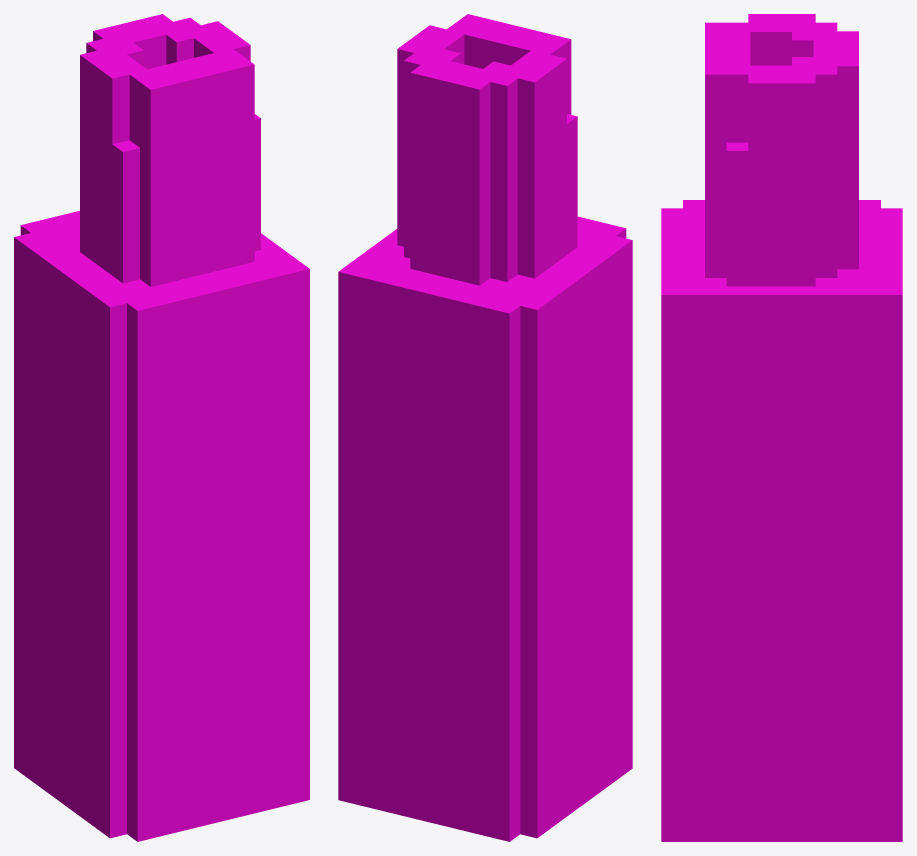
The model's file is water_dispenser.glb.
3 views of the same model, side by side, from view 1: azimuth 30°, elevation 25°; view 2: azimuth 150°, elevation 25°; view 3: azimuth 270°, elevation 25° (orthographic). The views are drawn at different scales.
Parts seen in each view (by area): view 1: col_roof_224, col_roof_20, col_roof_171, col_roof_218, col_roof_09, col_column_734, col_roof_177, col_column_604, col_column_377, col_roof_129, col_column_615, col_column_09 (+172 smaller); view 2: col_roof_225, col_roof_01, col_roof_10, col_roof_216, col_column_486, col_roof_219, col_roof_178, col_column_605, col_column_129, col_column_724, col_column_01, col_column_10 (+172 smaller); view 3: col_roof_109, col_roof_112, col_roof_116, col_roof_110, col_roof_111, col_roof_119, col_roof_118, col_roof_115, col_roof_117, col_roof_215, col_roof_114, col_roof_113 (+100 smaller).
Boxes of the visible parts, <box> form: col_roof_224: <box>139,77,169,160</box>; col_roof_20: <box>127,298,155,381</box>; col_roof_171: <box>111,140,139,222</box>; col_roof_218: <box>101,66,130,147</box>; col_roof_09: <box>98,295,127,377</box>; col_column_734: <box>127,369,155,447</box>; col_roof_177: <box>140,148,169,226</box>; col_column_604: <box>98,432,126,509</box>; col_column_377: <box>127,566,155,644</box>; col_roof_129: <box>140,214,169,286</box>; col_column_615: <box>127,435,155,511</box>; col_column_09: <box>98,763,126,838</box>; col_roof_225: <box>461,77,490,159</box>; col_roof_01: <box>519,297,548,380</box>; col_roof_10: <box>491,301,520,381</box>; col_roof_216: <box>517,70,545,152</box>; col_column_486: <box>491,503,520,580</box>; col_roof_219: <box>489,74,517,155</box>; col_roof_178: <box>461,148,490,225</box>; col_column_605: <box>491,437,520,514</box>; col_column_129: <box>491,698,520,775</box>; col_column_724: <box>491,373,520,447</box>; col_column_01: <box>520,760,547,838</box>; col_column_10: <box>491,764,520,841</box>; col_roof_109: <box>879,285,902,368</box>; col_roof_112: <box>813,285,837,368</box>; col_roof_116: <box>726,286,750,368</box>; col_roof_110: <box>857,285,880,368</box>; col_roof_111: <box>835,285,858,368</box>; col_roof_119: <box>661,285,684,368</box>; col_roof_118: <box>683,285,706,368</box>; col_roof_115: <box>748,286,771,368</box>; col_roof_117: <box>705,285,728,368</box>; col_roof_215: <box>726,142,749,224</box>; col_roof_114: <box>770,286,793,368</box>; col_roof_113: <box>792,286,815,368</box>.
Bounding box in the file's own units: 1.81 × 6.66 × 1.94.
